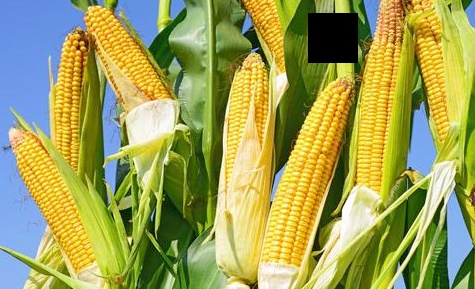corn: (3, 131, 116, 284), (86, 5, 181, 167), (263, 80, 342, 272), (220, 58, 269, 278), (357, 1, 406, 203), (416, 19, 473, 163), (54, 33, 95, 179)
